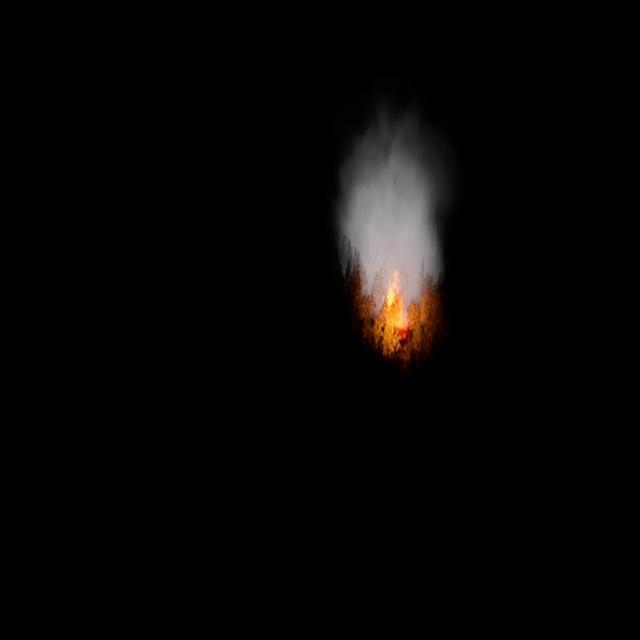fire: (383, 272, 405, 328)
smoke: (336, 95, 447, 317)
